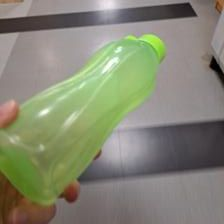bottle: (0, 32, 170, 207)
